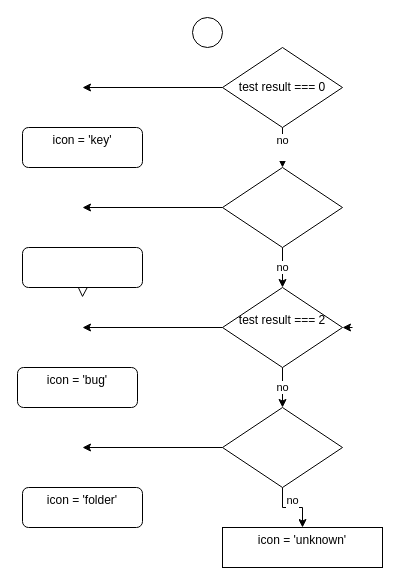
Some shapes in this 400 by 585 pixel diagram are drawn without their labels. Here are the shapes that lost their labels. From the top down, the centre of each, then its label:
At (x=282, y=207): "test result === 1".
At (x=82, y=267): "icon = 'info' '".
At (x=282, y=447): "test result === 3".
